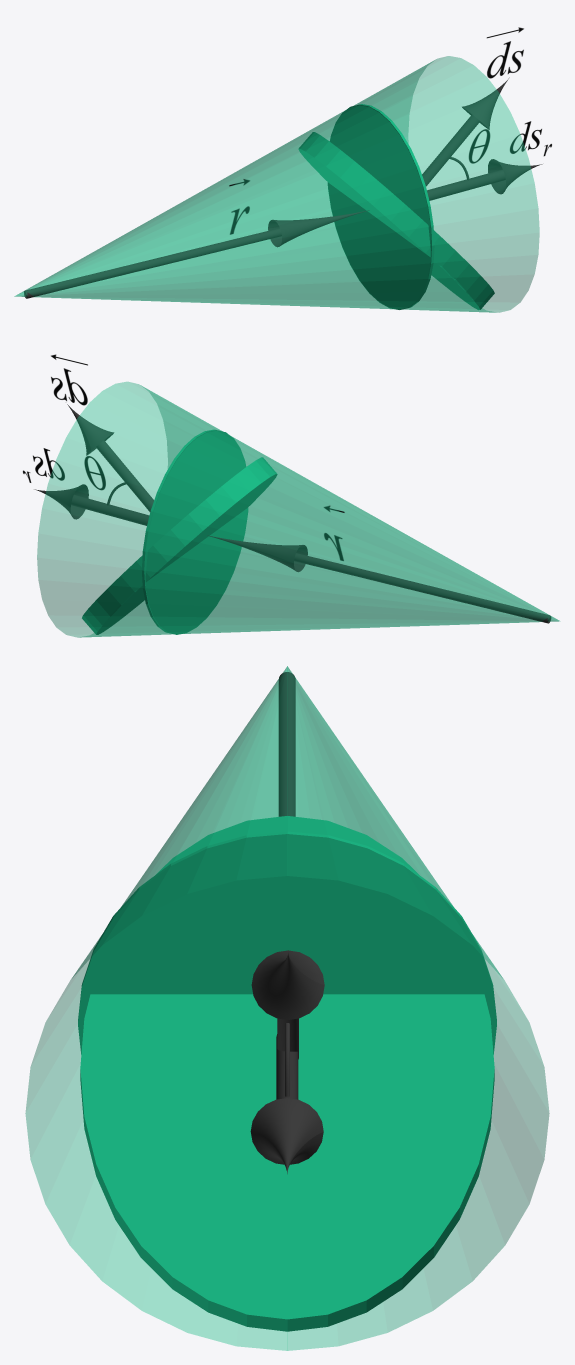
Rendered from 16_Area component for solid angle.glb.
3 renders of one model, top to bottom at view 1: azimuth 30°, elevation 25°; view 2: azimuth 150°, elevation 25°; view 3: azimuth 270°, elevation 25°, orthographic. The views are drawn at different scales.
Parts seen in each view (by area): view 1: Cone, Cylinder.001, Cylinder, Cylinder.002, Cylinder.003, Cylinder.004, Shape_1_Object 3; view 2: Cone, Cylinder.001, Cylinder, Cylinder.002, Cylinder.003, Cylinder.004, Shape_1_Object 3; view 3: Cylinder, Cone, Cylinder.001, Cylinder.004, Cylinder.003, Cylinder.002.
Part boxes in pixels (x1,y1,x2,y2): Cone: [14, 56, 539, 312]; Cylinder.001: [328, 104, 434, 309]; Cylinder: [298, 132, 494, 309]; Cylinder.002: [24, 210, 368, 298]; Cylinder.003: [422, 77, 509, 186]; Cylinder.004: [427, 159, 542, 200]; Shape_1_Object 3: [486, 27, 523, 78]; Cone: [37, 382, 559, 637]; Cylinder.001: [141, 429, 247, 634]; Cylinder: [82, 457, 277, 634]; Cylinder.002: [207, 535, 550, 623]; Cylinder.003: [67, 404, 153, 511]; Cylinder.004: [34, 484, 149, 525]; Shape_1_Object 3: [51, 354, 87, 405]; Cylinder: [80, 816, 494, 1331]; Cone: [25, 666, 549, 1350]; Cylinder.001: [78, 831, 496, 1054]; Cylinder.004: [250, 1034, 323, 1173]; Cylinder.003: [251, 950, 324, 1059]; Cylinder.002: [278, 672, 295, 816].
Bounding box in the file's own units: 4.81 × 2.3 × 2.
Materials: 10 (4 with a texture image).
